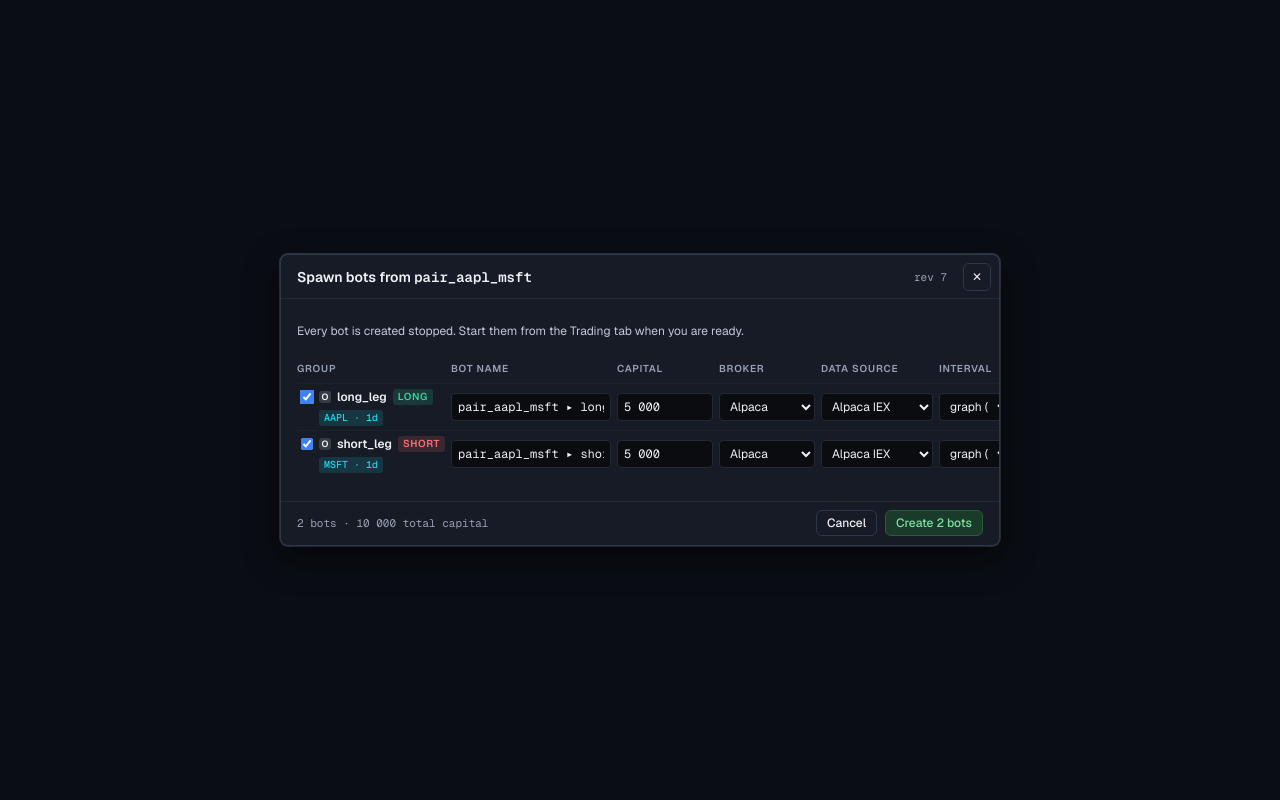
Test: SpawnBotsDialog (S34) › 400 codes show plain copy and mark the named rows
The image size is (1280, 800).
Click the button with test id "nb-dialog-primary": point(934, 523) left=885, top=510, right=983, bottom=536
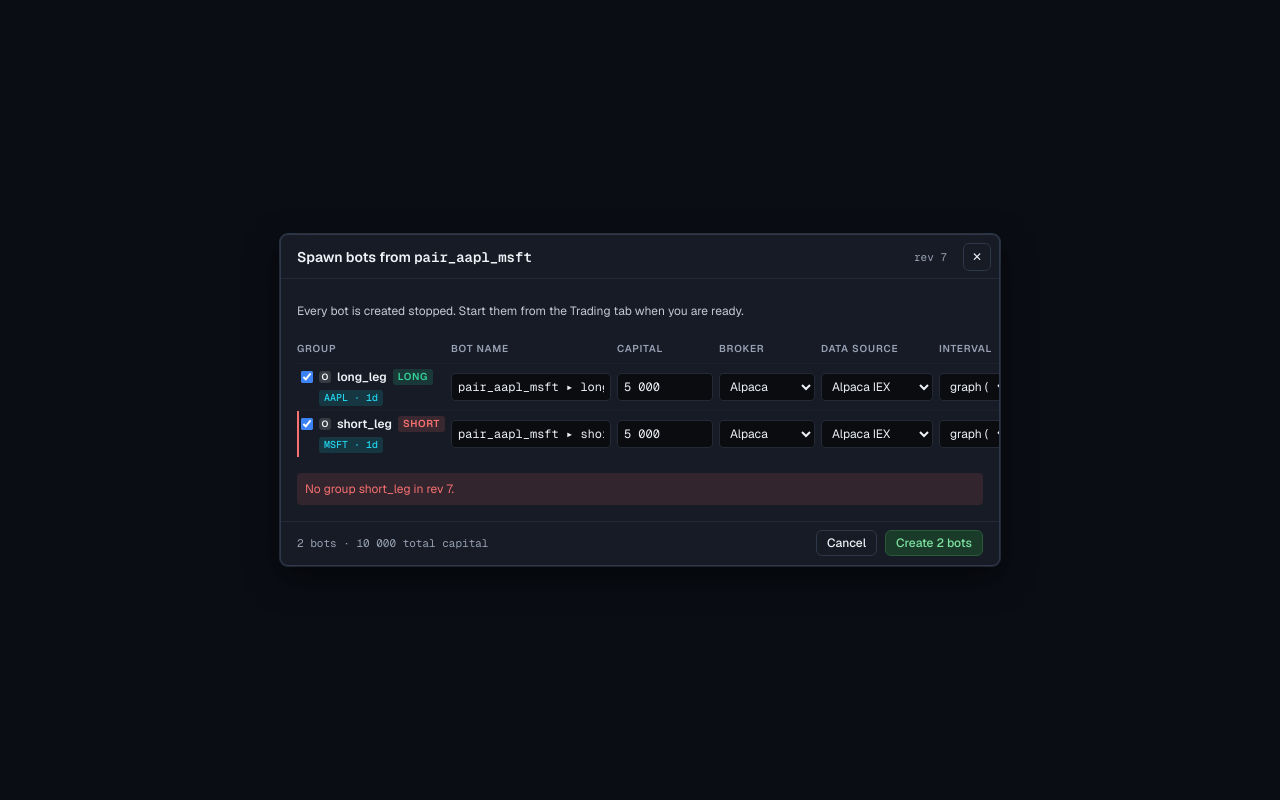
Check: the message with test id "nb-spawn-error" reads "No group short_leg in rev 7.", box left=305, top=481, right=454, bottom=497
Click the button with test id "nb-dialog-primary": point(934, 543) left=885, top=530, right=983, bottom=556
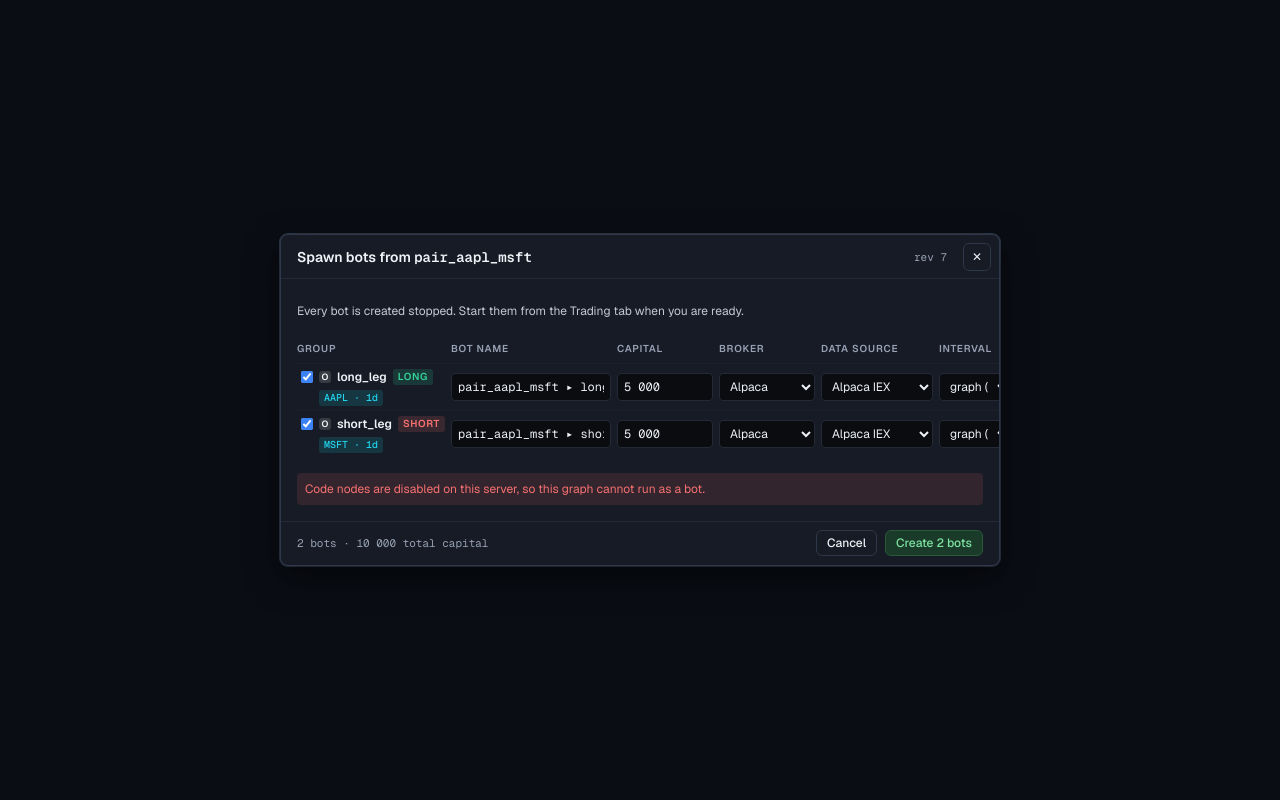
Check: the message with test id "nb-spawn-error" reads "Code nodes are disabled on this server, so this graph cannot run as a bot.", box left=305, top=481, right=705, bottom=497
Click the button with test id "nb-dialog-primary": point(934, 543) left=885, top=530, right=983, bottom=556
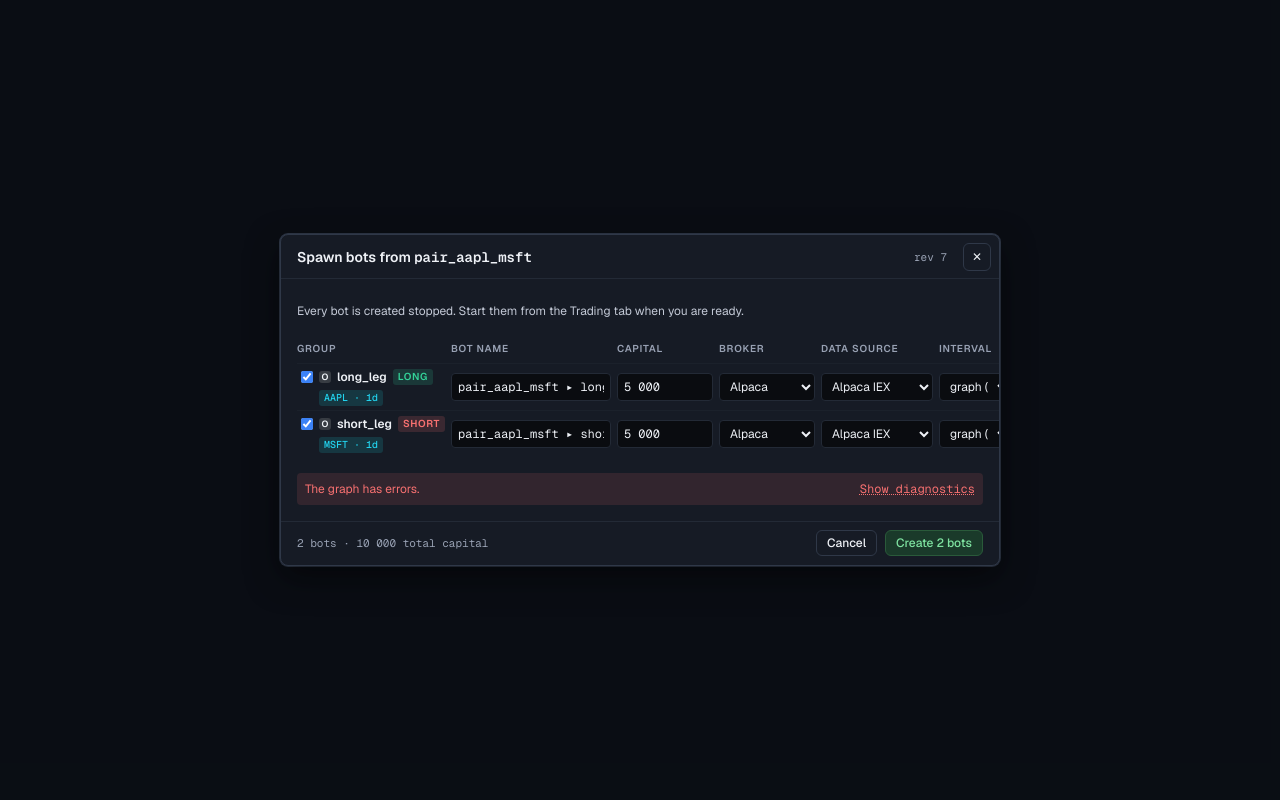
Check: the message with test id "nb-spawn-error" shows "The graph has errors.", box left=305, top=481, right=419, bottom=497
Check: the button "Show diagnostics" is shown, box left=860, top=481, right=975, bottom=497
